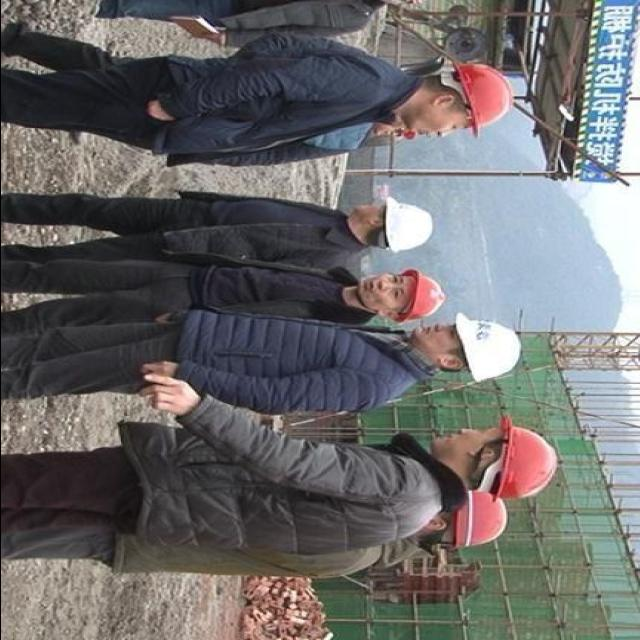helmet: (486, 409, 562, 502), (449, 54, 516, 142), (449, 308, 526, 384), (390, 258, 460, 328), (444, 491, 522, 553), (382, 186, 438, 256)
